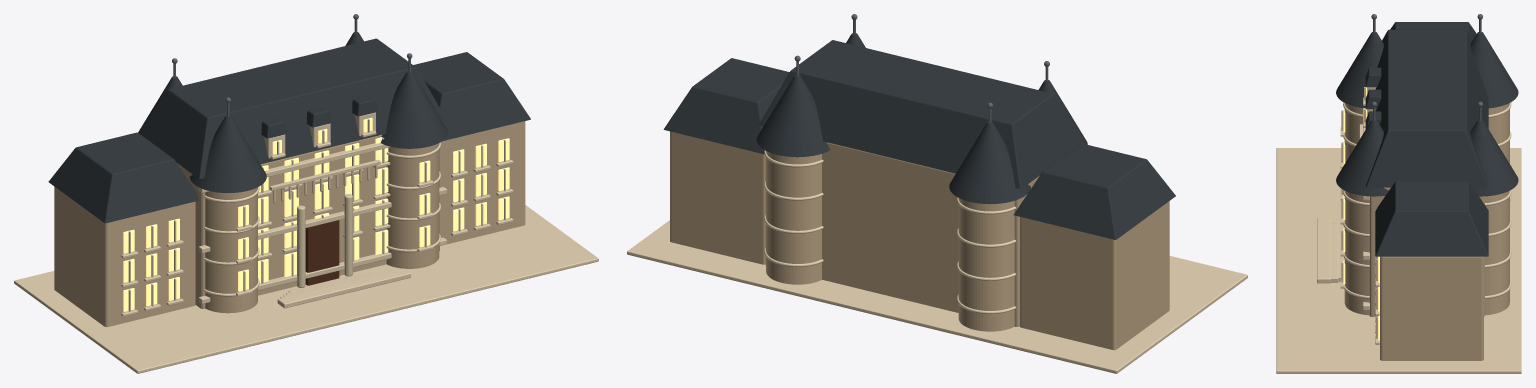
The model's file is paris-chateau.glb.
3 views of the same model, side by side, from view 1: azimuth 30°, elevation 25°; view 2: azimuth 150°, elevation 25°; view 3: azimuth 270°, elevation 25° (orthographic). The views are drawn at different scales.
Parts seen in each view (by area): view 1: Optimized Paris chateau; view 2: Optimized Paris chateau; view 3: Optimized Paris chateau.
Boxes of the visible parts, x1,y1,x2,y2 form: Optimized Paris chateau: (14,14,598,373); Optimized Paris chateau: (627,14,1247,373); Optimized Paris chateau: (1276,14,1521,373).
Size of the model in its own units: 22.4 by 9.57 by 10.4.
